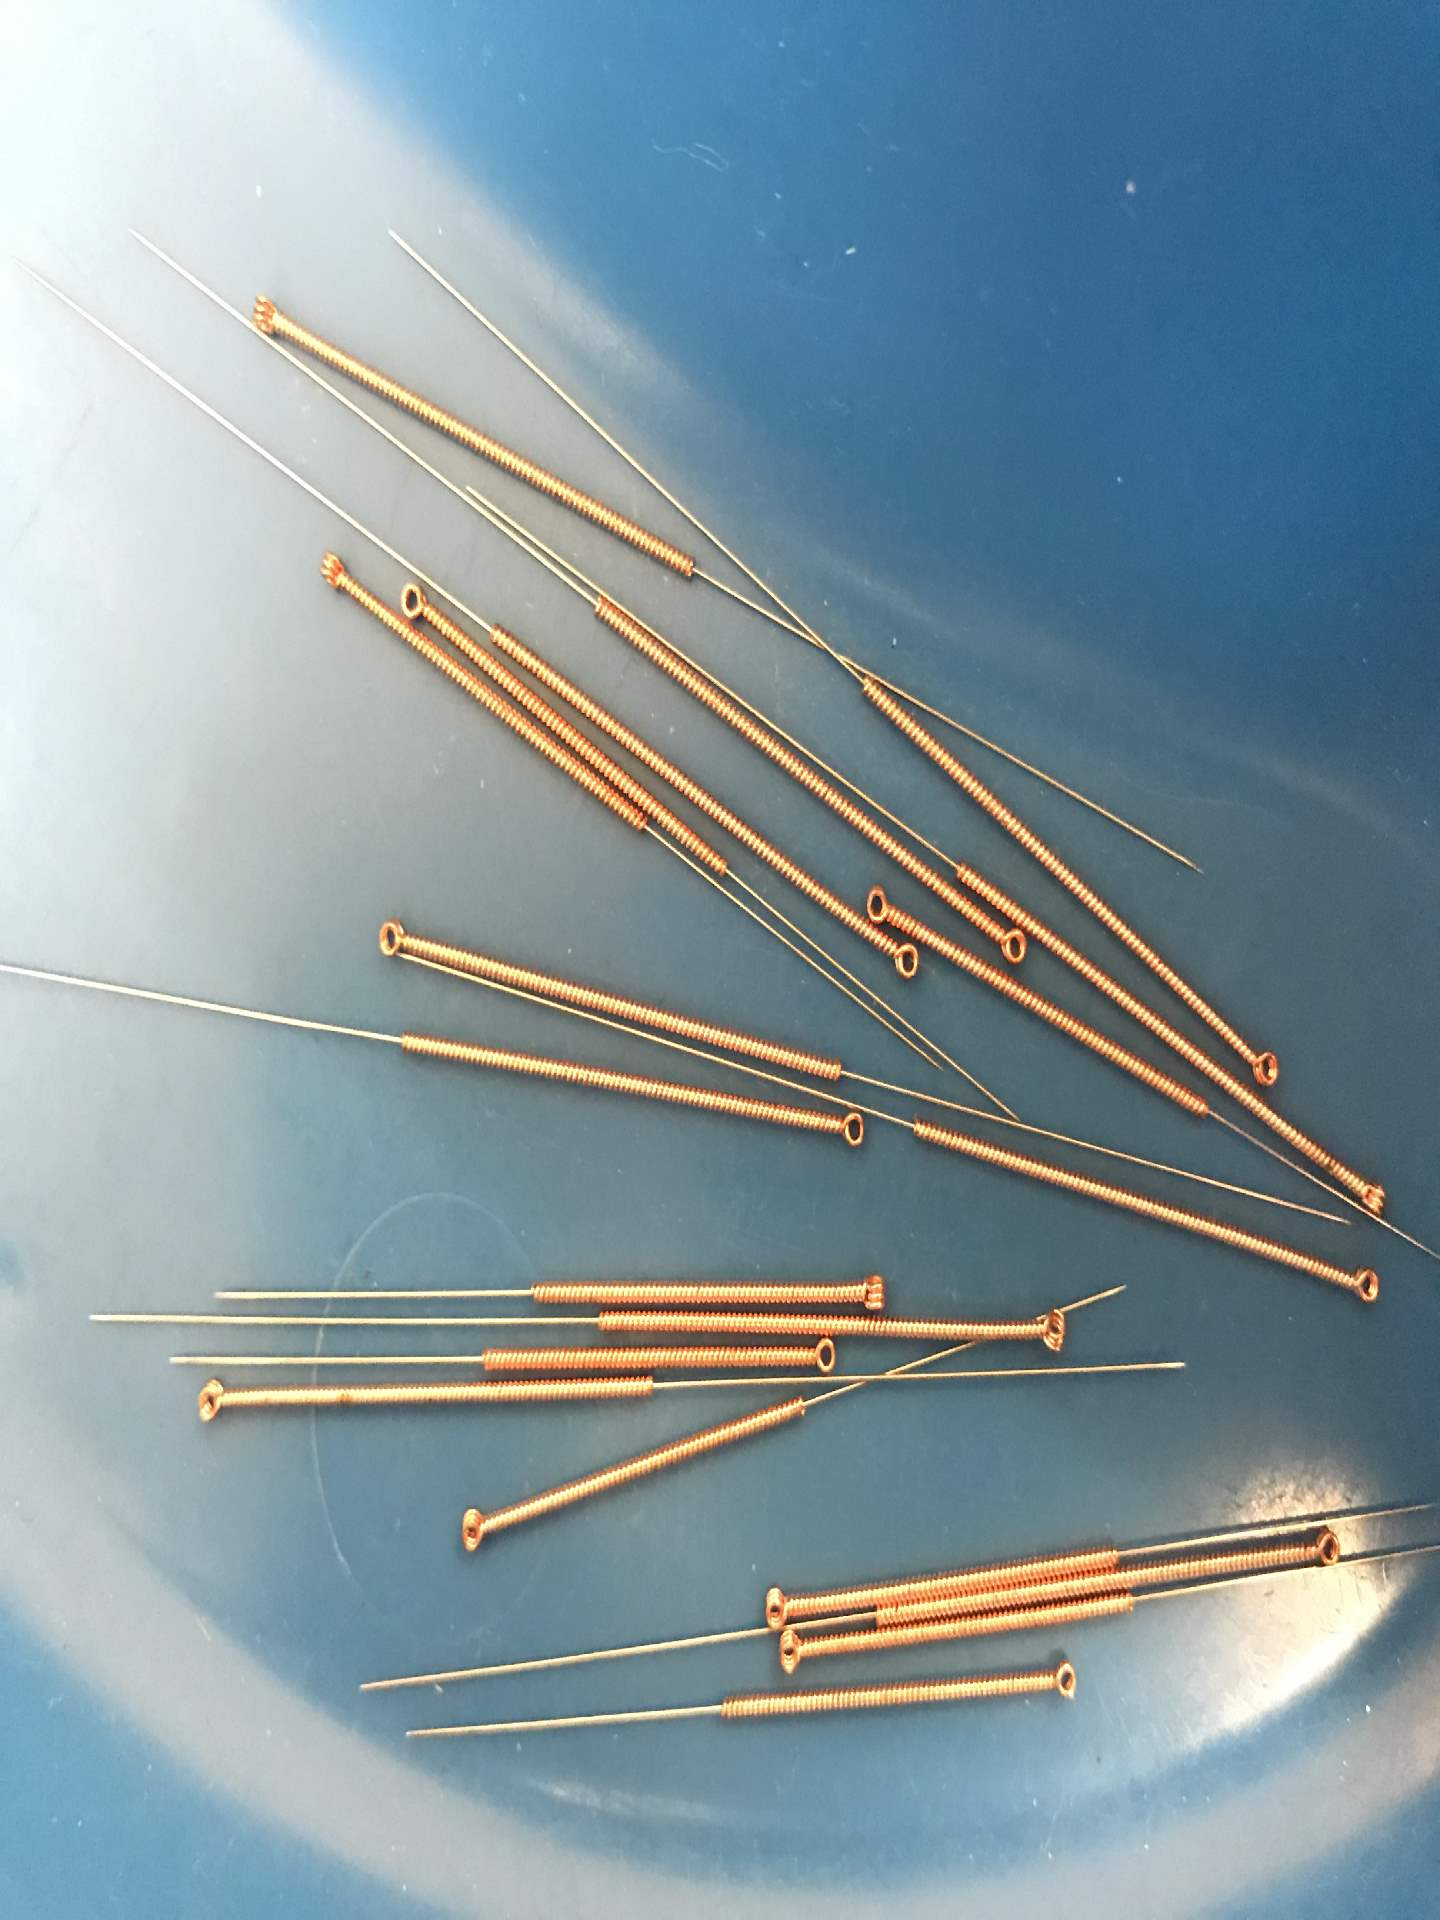needle: (352, 906, 430, 980), (1324, 1250, 1398, 1321), (1012, 1294, 1088, 1361), (233, 278, 299, 351), (180, 1367, 242, 1438), (303, 534, 365, 603), (803, 1105, 879, 1161), (1286, 1522, 1355, 1583), (443, 1497, 501, 1565), (835, 1262, 905, 1318), (1033, 1649, 1095, 1711), (752, 1627, 823, 1680), (1345, 1163, 1401, 1228), (741, 1580, 809, 1631), (1239, 1036, 1293, 1095), (791, 1332, 852, 1377), (983, 924, 1035, 974), (879, 937, 926, 984), (393, 574, 434, 627), (861, 878, 903, 928)
